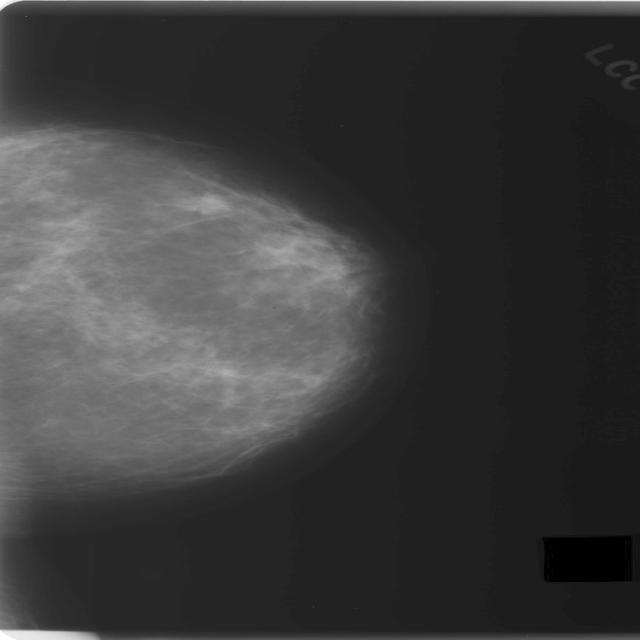tumour: (172, 193, 228, 214)
